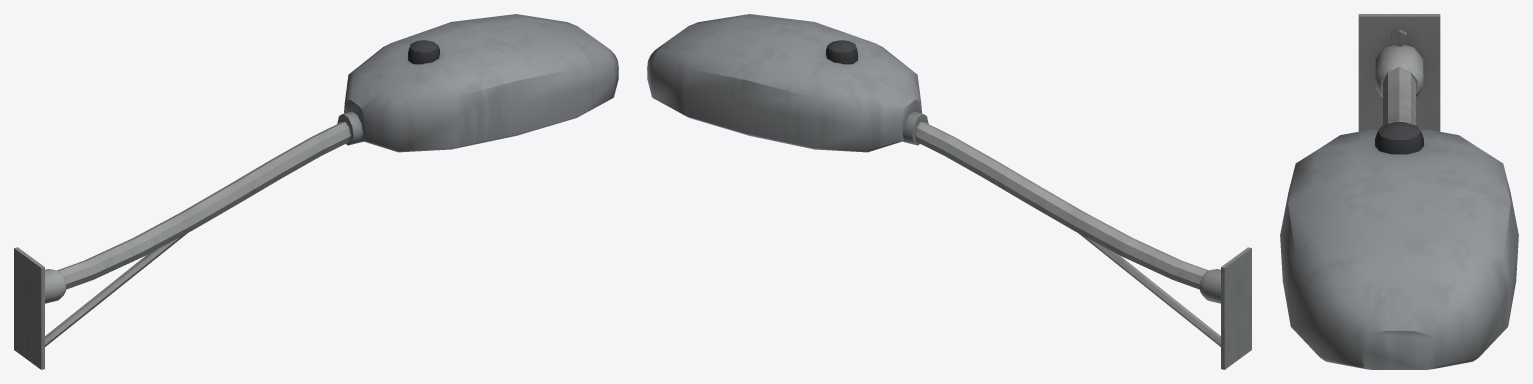
File: cobraArm-v2.glb
3 renders of one model, left to right at view 1: azimuth 30°, elevation 25°; view 2: azimuth 150°, elevation 25°; view 3: azimuth 270°, elevation 25°, orthographic. The views are drawn at different scales.
Parts seen in each view (by area): view 1: cobraArm; view 2: cobraArm; view 3: cobraArm.
Part boxes in pixels (x1=…): cobraArm: x1=14, y1=14, x2=618, y2=369; cobraArm: x1=647, y1=14, x2=1251, y2=369; cobraArm: x1=1280, y1=14, x2=1518, y2=369.
Size of the model in its own units: 1.84 by 0.672 by 0.44.
Materials: 2 (2 with a texture image).
